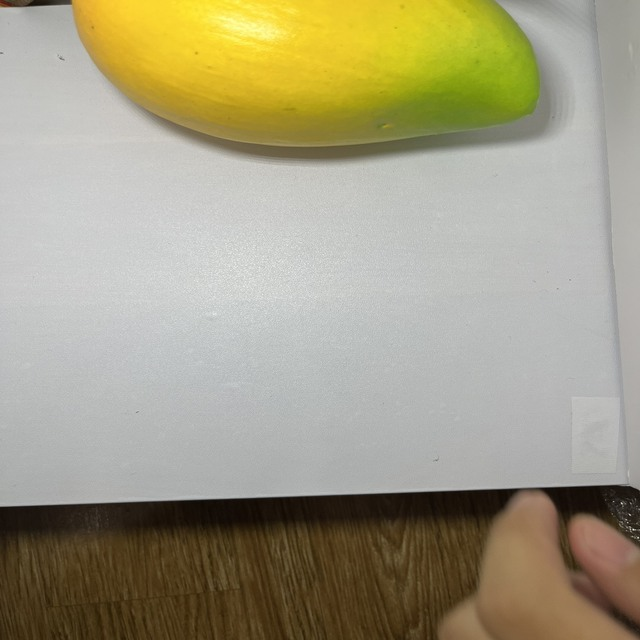Xoai: (62, 0, 546, 154)
